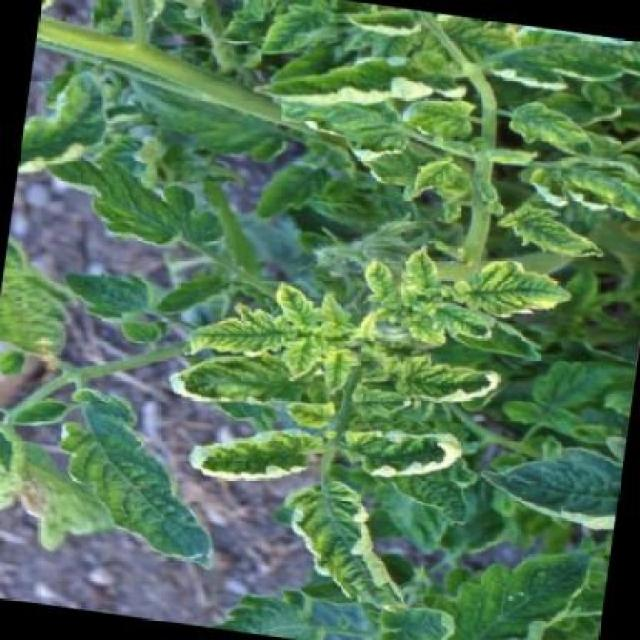Healthy Leaf: (273, 474, 426, 625), (183, 409, 325, 496), (444, 254, 581, 334), (179, 302, 302, 373), (343, 425, 468, 491), (499, 200, 616, 265), (392, 354, 505, 413), (396, 90, 485, 150), (270, 333, 327, 387)
